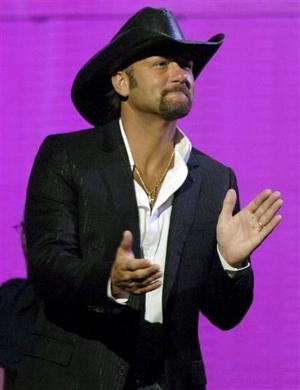person without safety: (22, 2, 246, 317)
